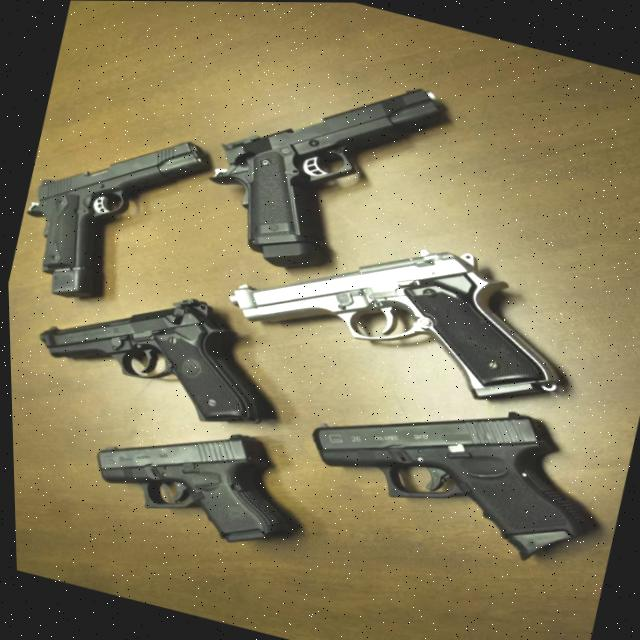gun: (229, 248, 562, 399), (210, 87, 452, 269), (312, 410, 600, 560), (38, 297, 271, 423), (28, 141, 209, 298), (97, 432, 302, 542)
